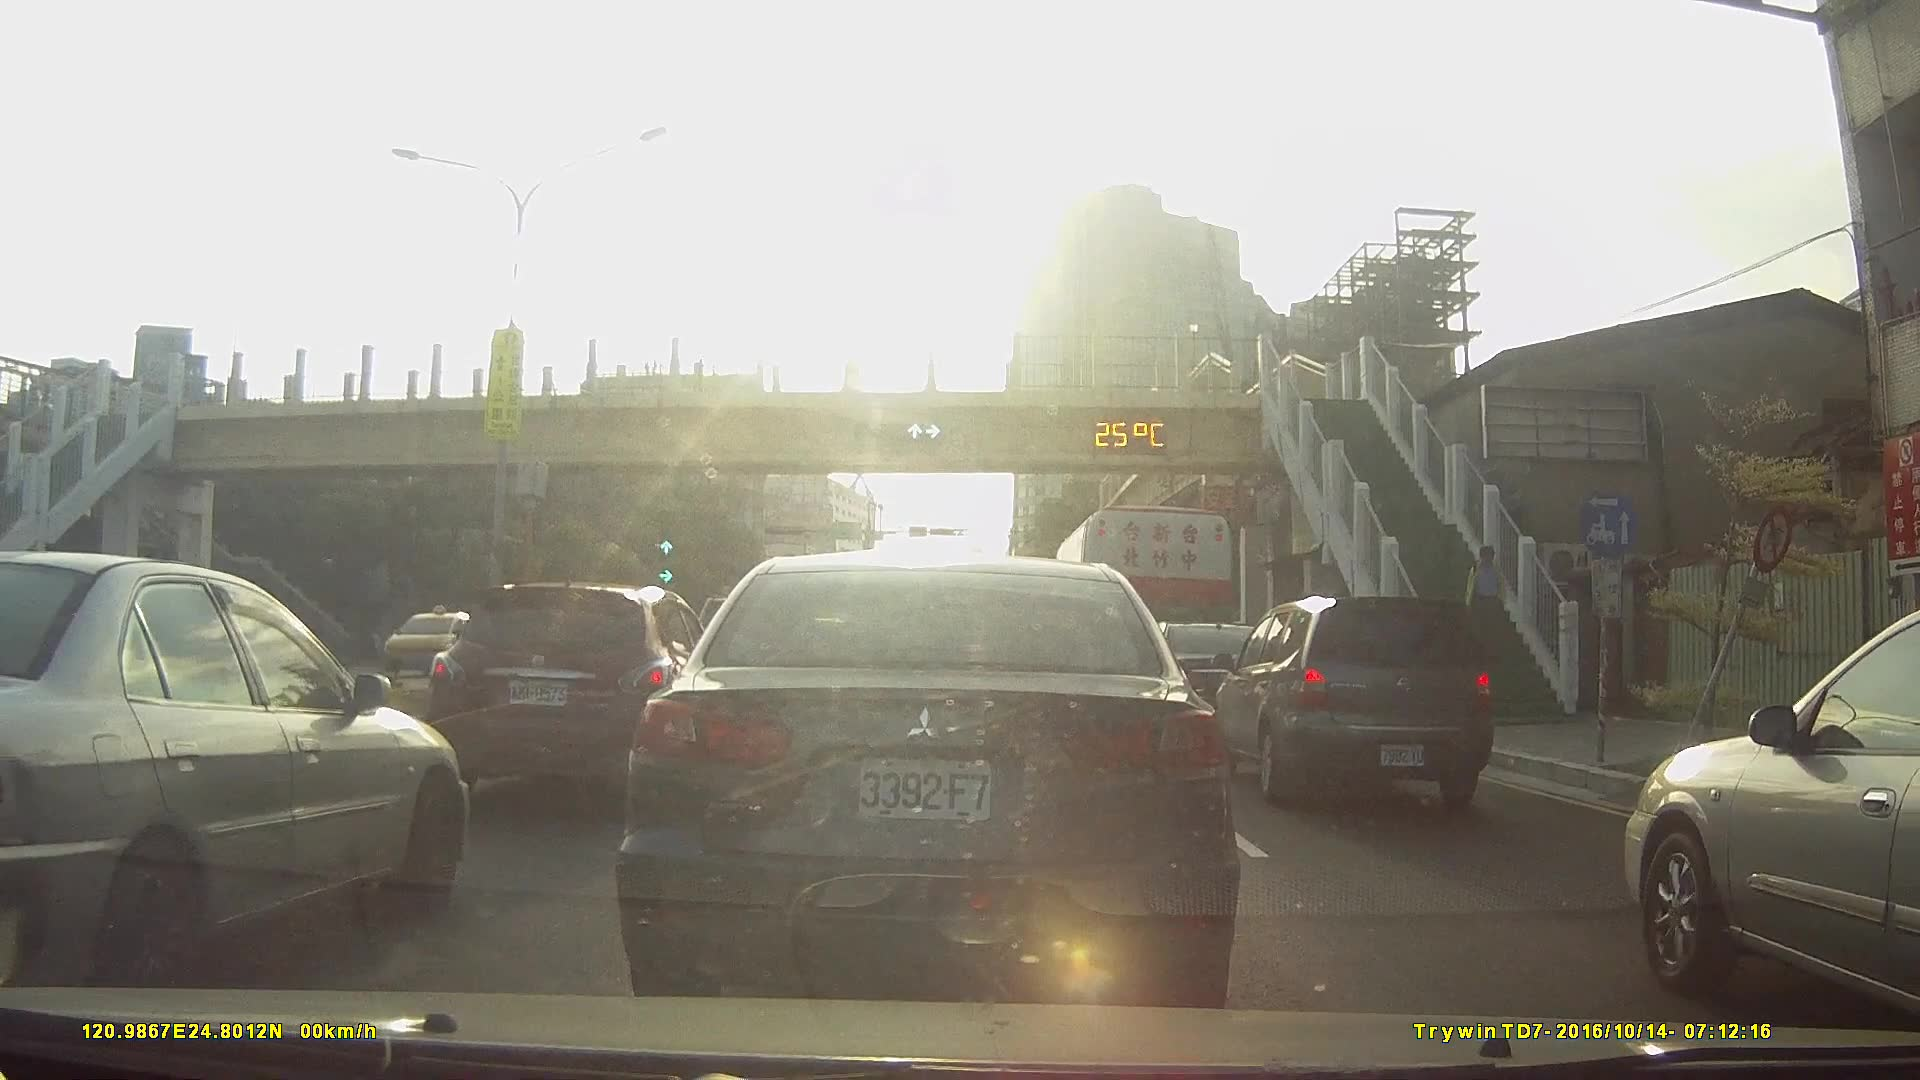pedestrian: (1465, 544, 1513, 650)
vehicle: (613, 553, 1241, 1003), (1, 549, 475, 993), (1610, 602, 1920, 1017), (1208, 594, 1508, 807), (432, 580, 725, 796), (1104, 615, 1284, 738), (381, 611, 497, 685)
